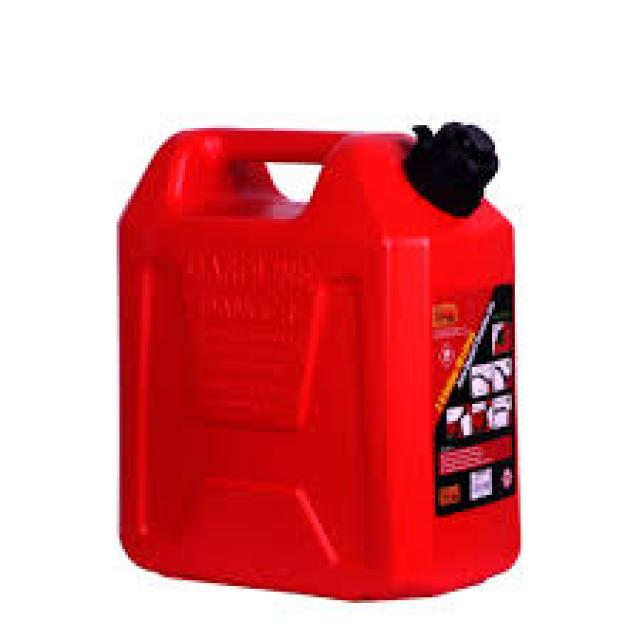gasolin: (117, 122, 521, 606)
